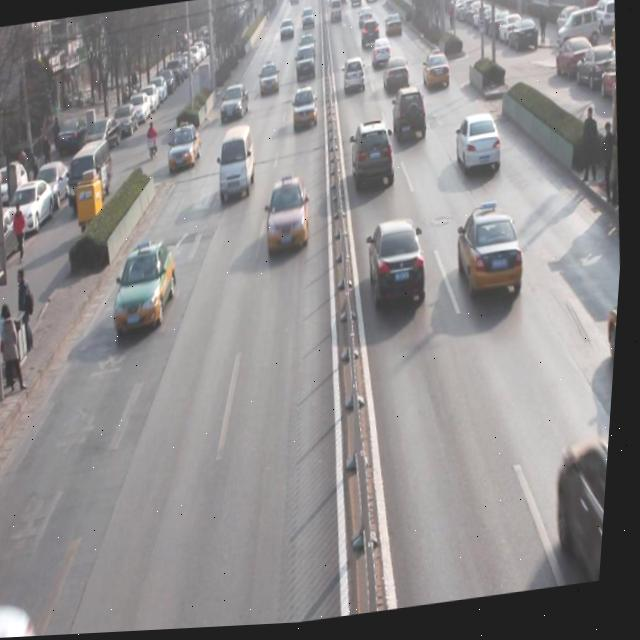car: (454, 207, 533, 310), (114, 245, 183, 337), (369, 219, 435, 313), (265, 176, 318, 256), (453, 115, 507, 186), (350, 121, 402, 194), (391, 88, 431, 150), (166, 126, 205, 176), (420, 48, 454, 96), (290, 87, 322, 135), (220, 83, 255, 124), (341, 57, 370, 100), (383, 58, 413, 97), (255, 61, 283, 100), (294, 48, 319, 84), (370, 38, 393, 71)
truck: (216, 125, 261, 206)
